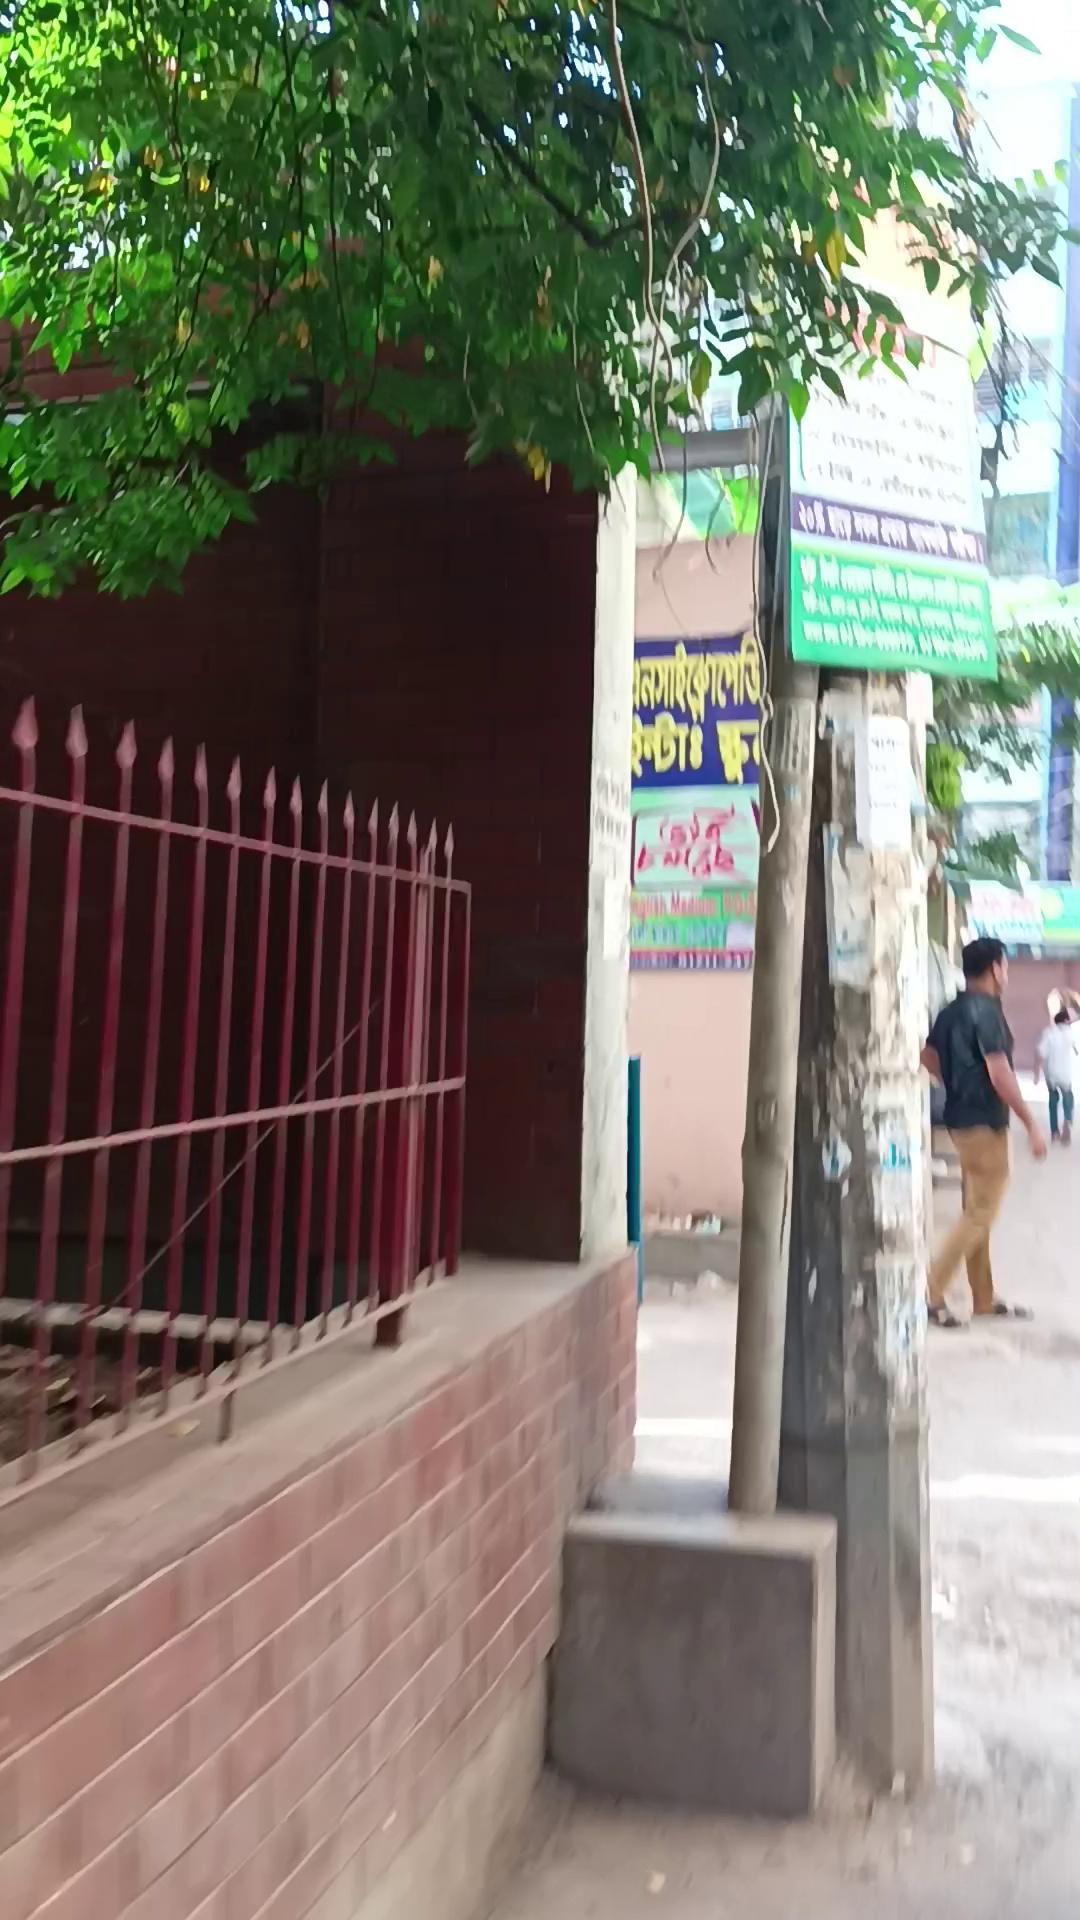Motorcycle: (545, 1493, 839, 1818)
Muddy road: (919, 936, 1047, 1328), (1033, 986, 1079, 1146)
Tree: (1, 1238, 640, 1917)
